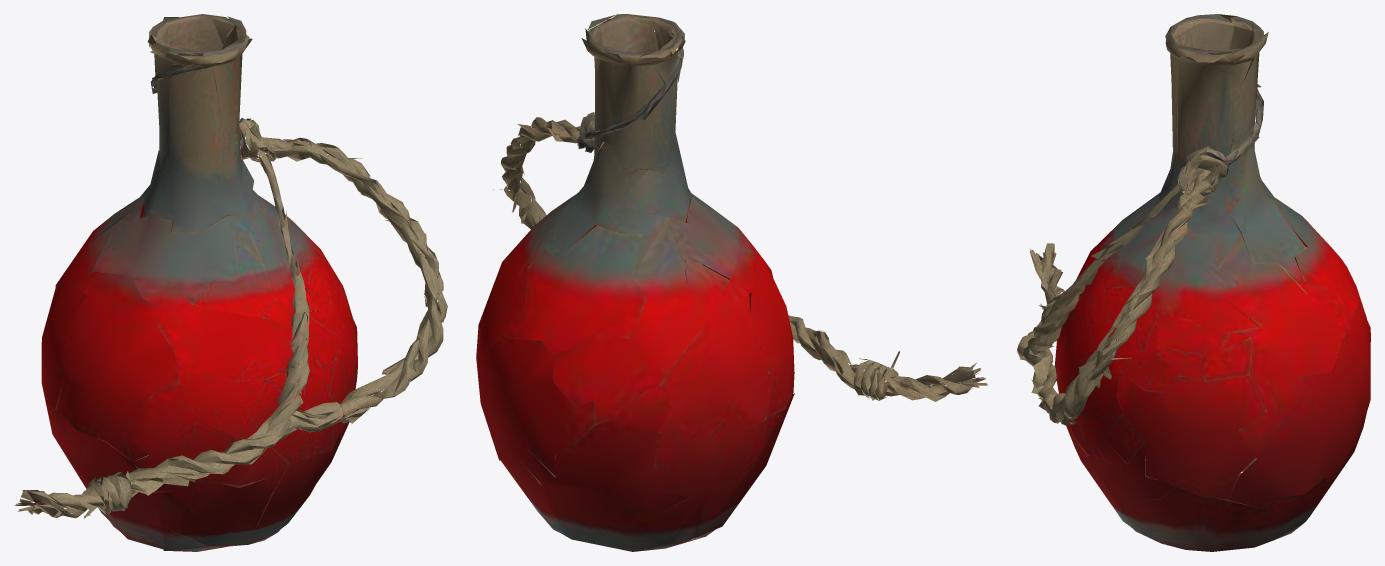
The model's file is volatile.glb.
3 views of the same model, side by side, from view 1: azimuth 30°, elevation 25°; view 2: azimuth 150°, elevation 25°; view 3: azimuth 270°, elevation 25° (orthographic).
Visible parts, largest first — view 1: Mesh_0; view 2: Mesh_0; view 3: Mesh_0.
Boxes of the visible parts, x1=… form: Mesh_0: x1=15, y1=14, x2=447, y2=551; Mesh_0: x1=476, y1=14, x2=987, y2=551; Mesh_0: x1=1017, y1=14, x2=1370, y2=551.
Bounding box in the file's own units: 0.158 × 0.16 × 0.107.
Materials: 1 (1 with a texture image).
